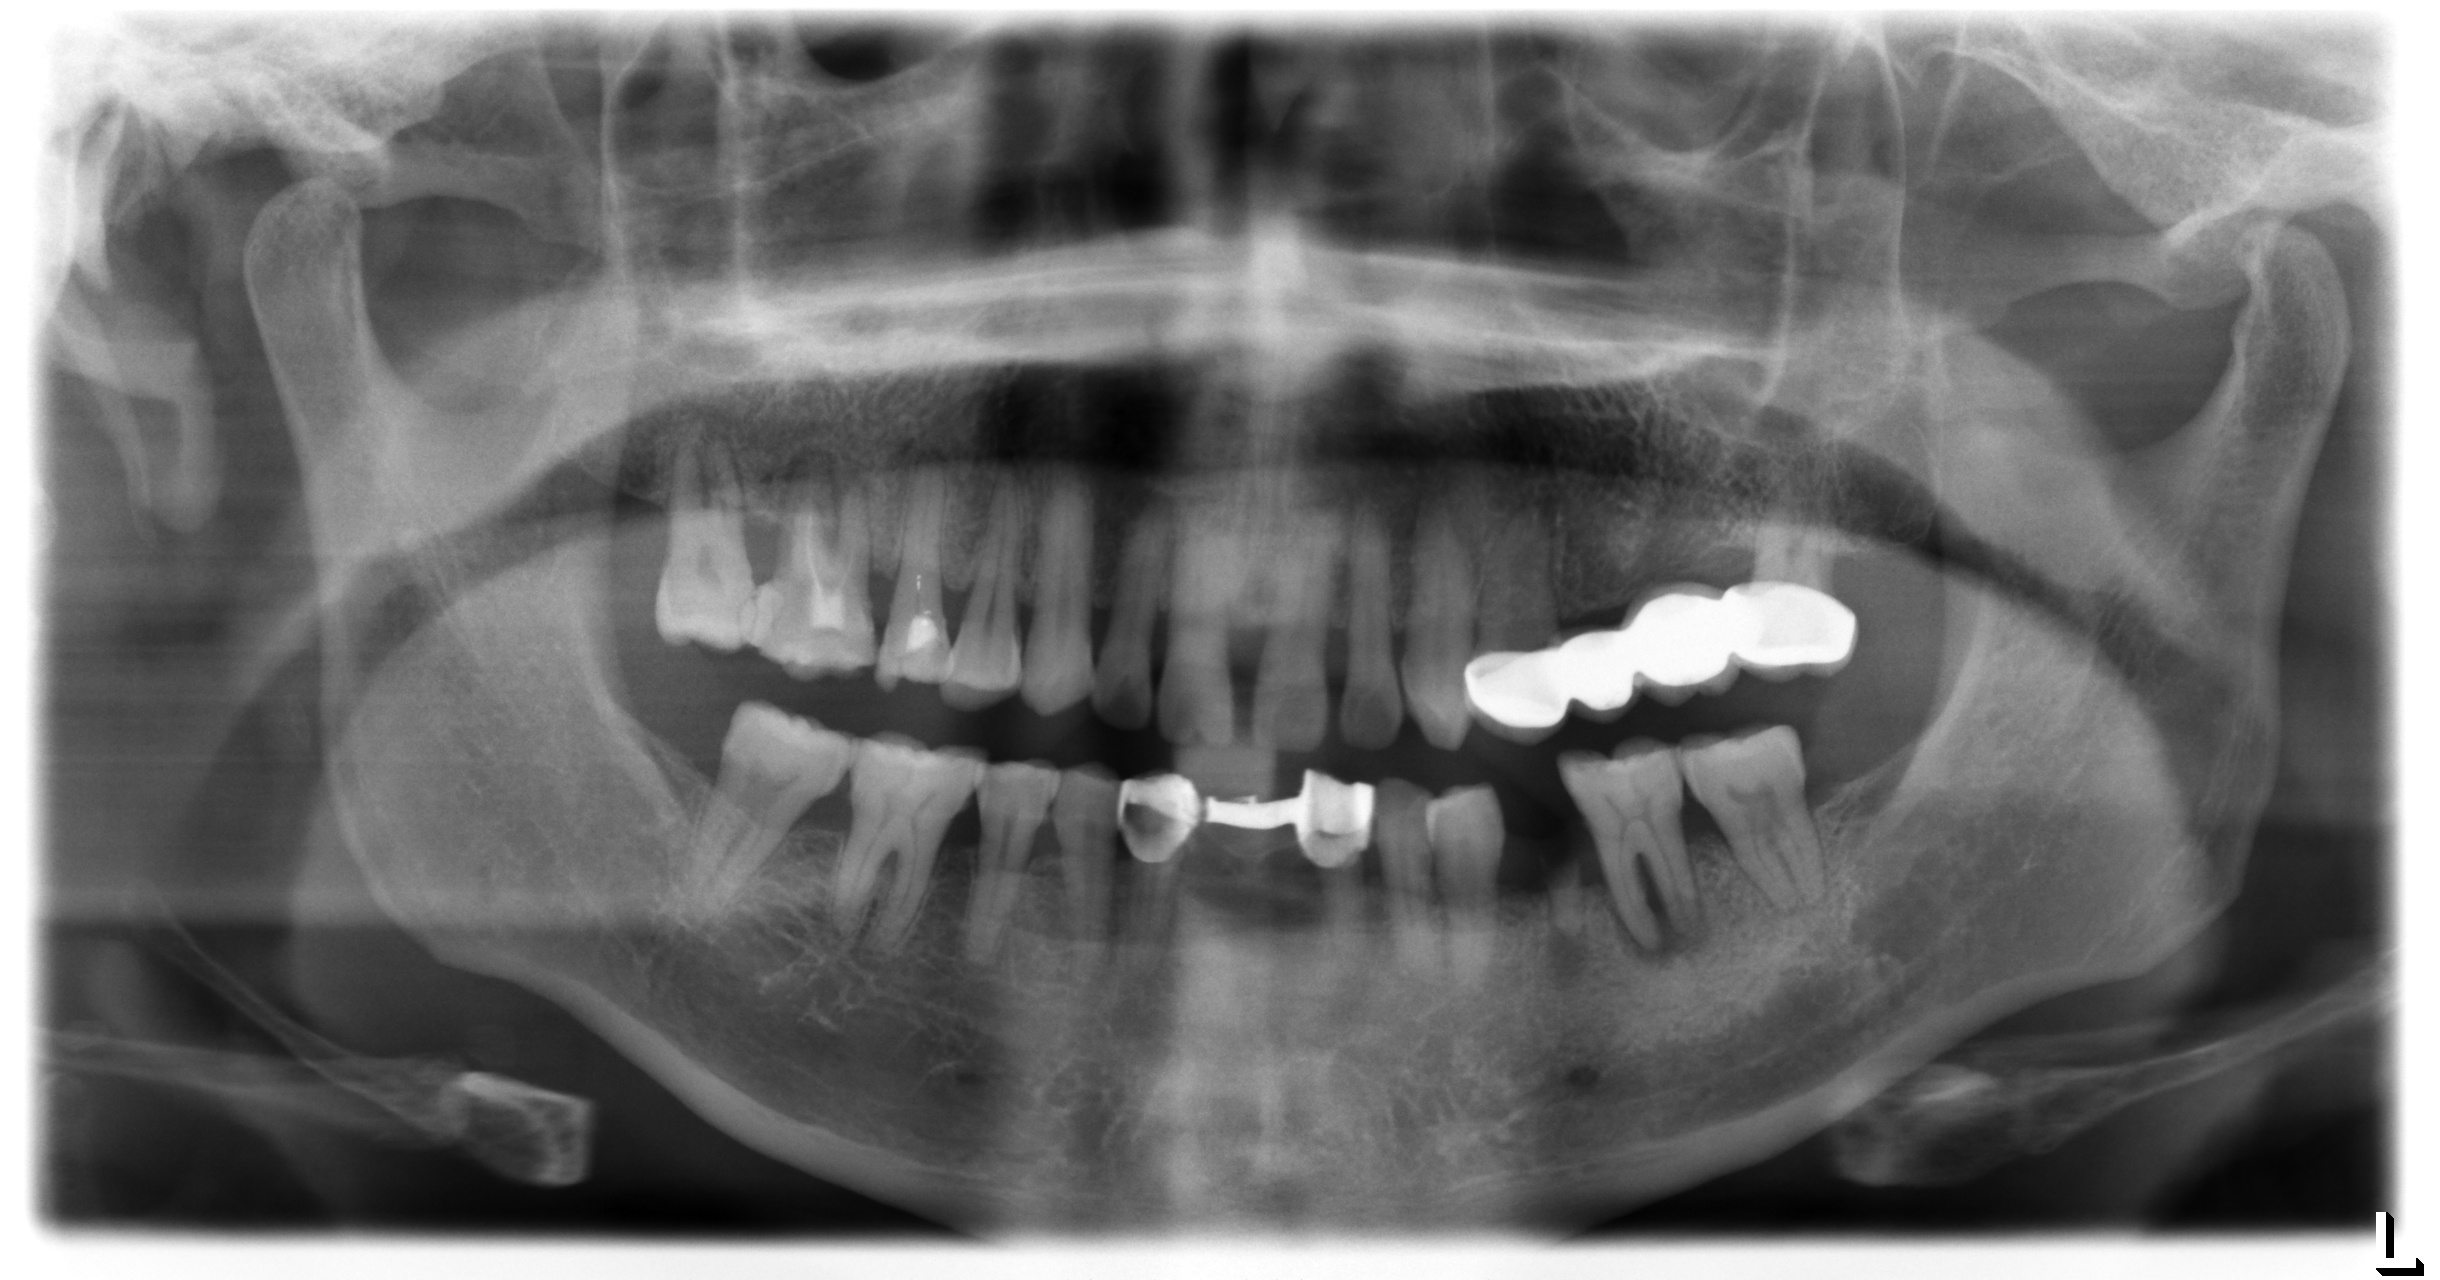Decay: (1540, 855, 1593, 949)
